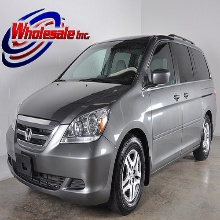no damage: (6, 34, 215, 213)
